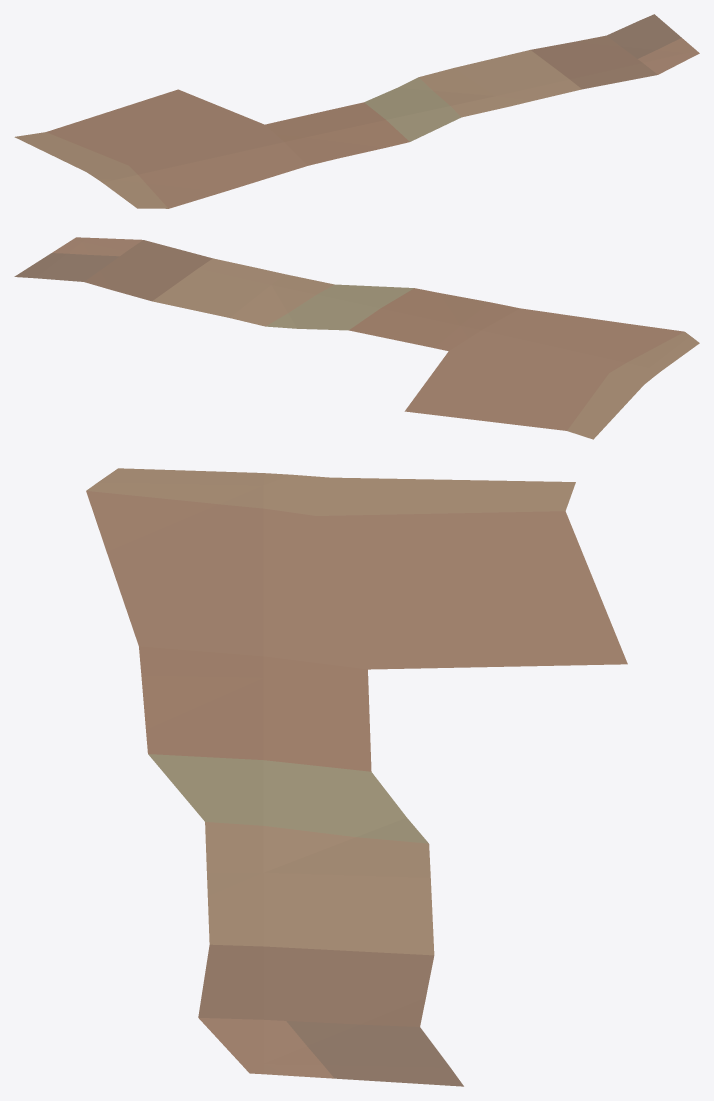
The model's file is farm_28_22_soil.glb.
3 views of the same model, one above another, from view 1: azimuth 30°, elevation 25°; view 2: azimuth 150°, elevation 25°; view 3: azimuth 270°, elevation 25° (orthographic). The views are drawn at different scales.
Visible parts, largest first — view 1: geometry_0; view 2: geometry_0; view 3: geometry_0.
Part boxes in pixels (x1,y1,x2,y2): geometry_0: [14, 14, 699, 208]; geometry_0: [14, 237, 699, 439]; geometry_0: [86, 468, 627, 1086].
Bounding box in the file's own units: 257 × 6.79 × 99.35.
